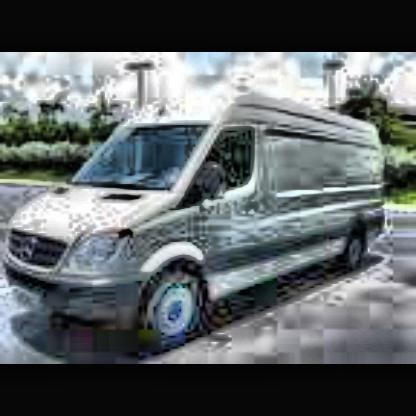Dodge Sprinter Cargo Van 2009: (4, 88, 396, 324)
